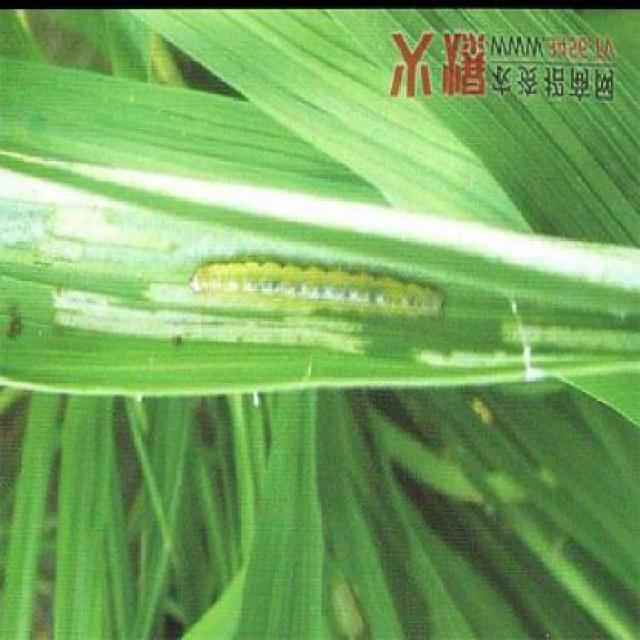leaf-folder: (174, 214, 440, 360)
